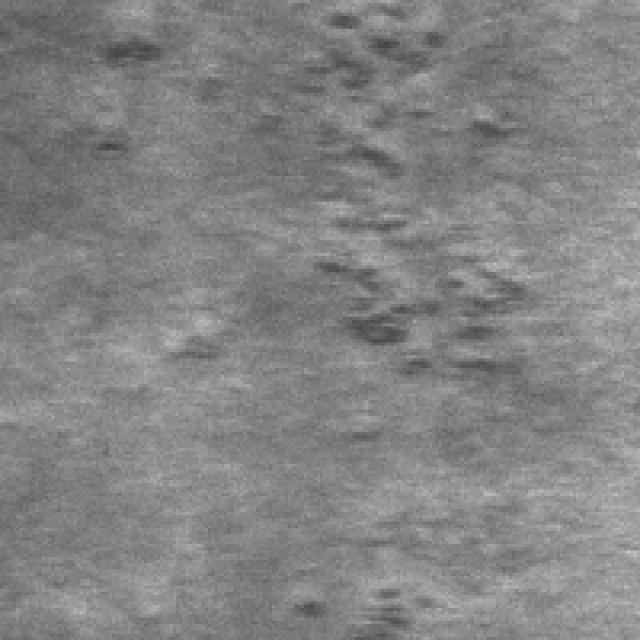rolled-in_scale: (231, 189, 518, 403), (185, 0, 502, 182), (3, 7, 163, 166), (282, 515, 442, 634)
